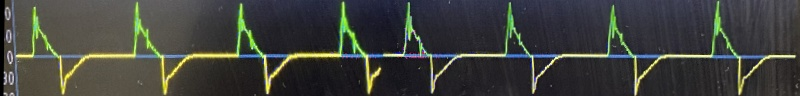hydrop_flow: (16, 0, 793, 96)
